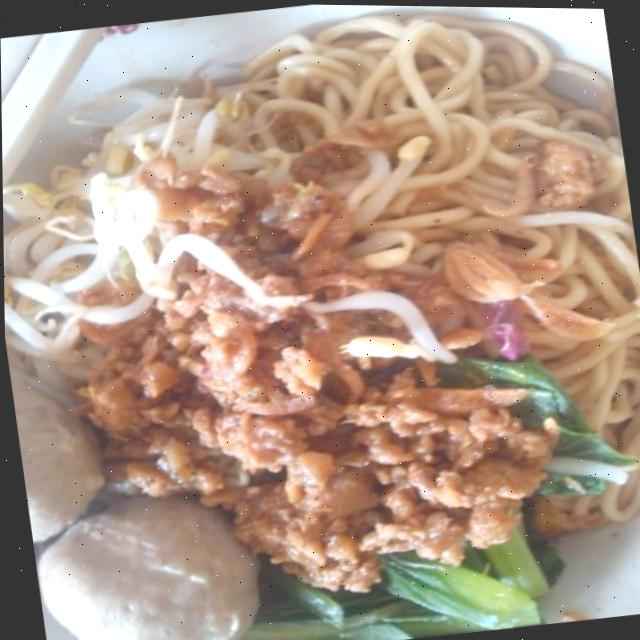面条主食: (16, 0, 640, 627)
